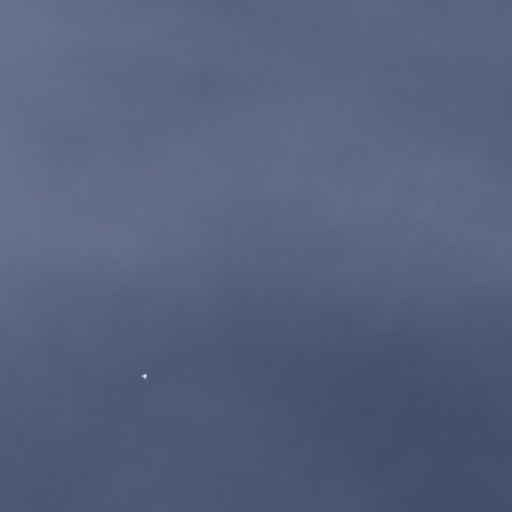Iceberg: (141, 374, 146, 379)
